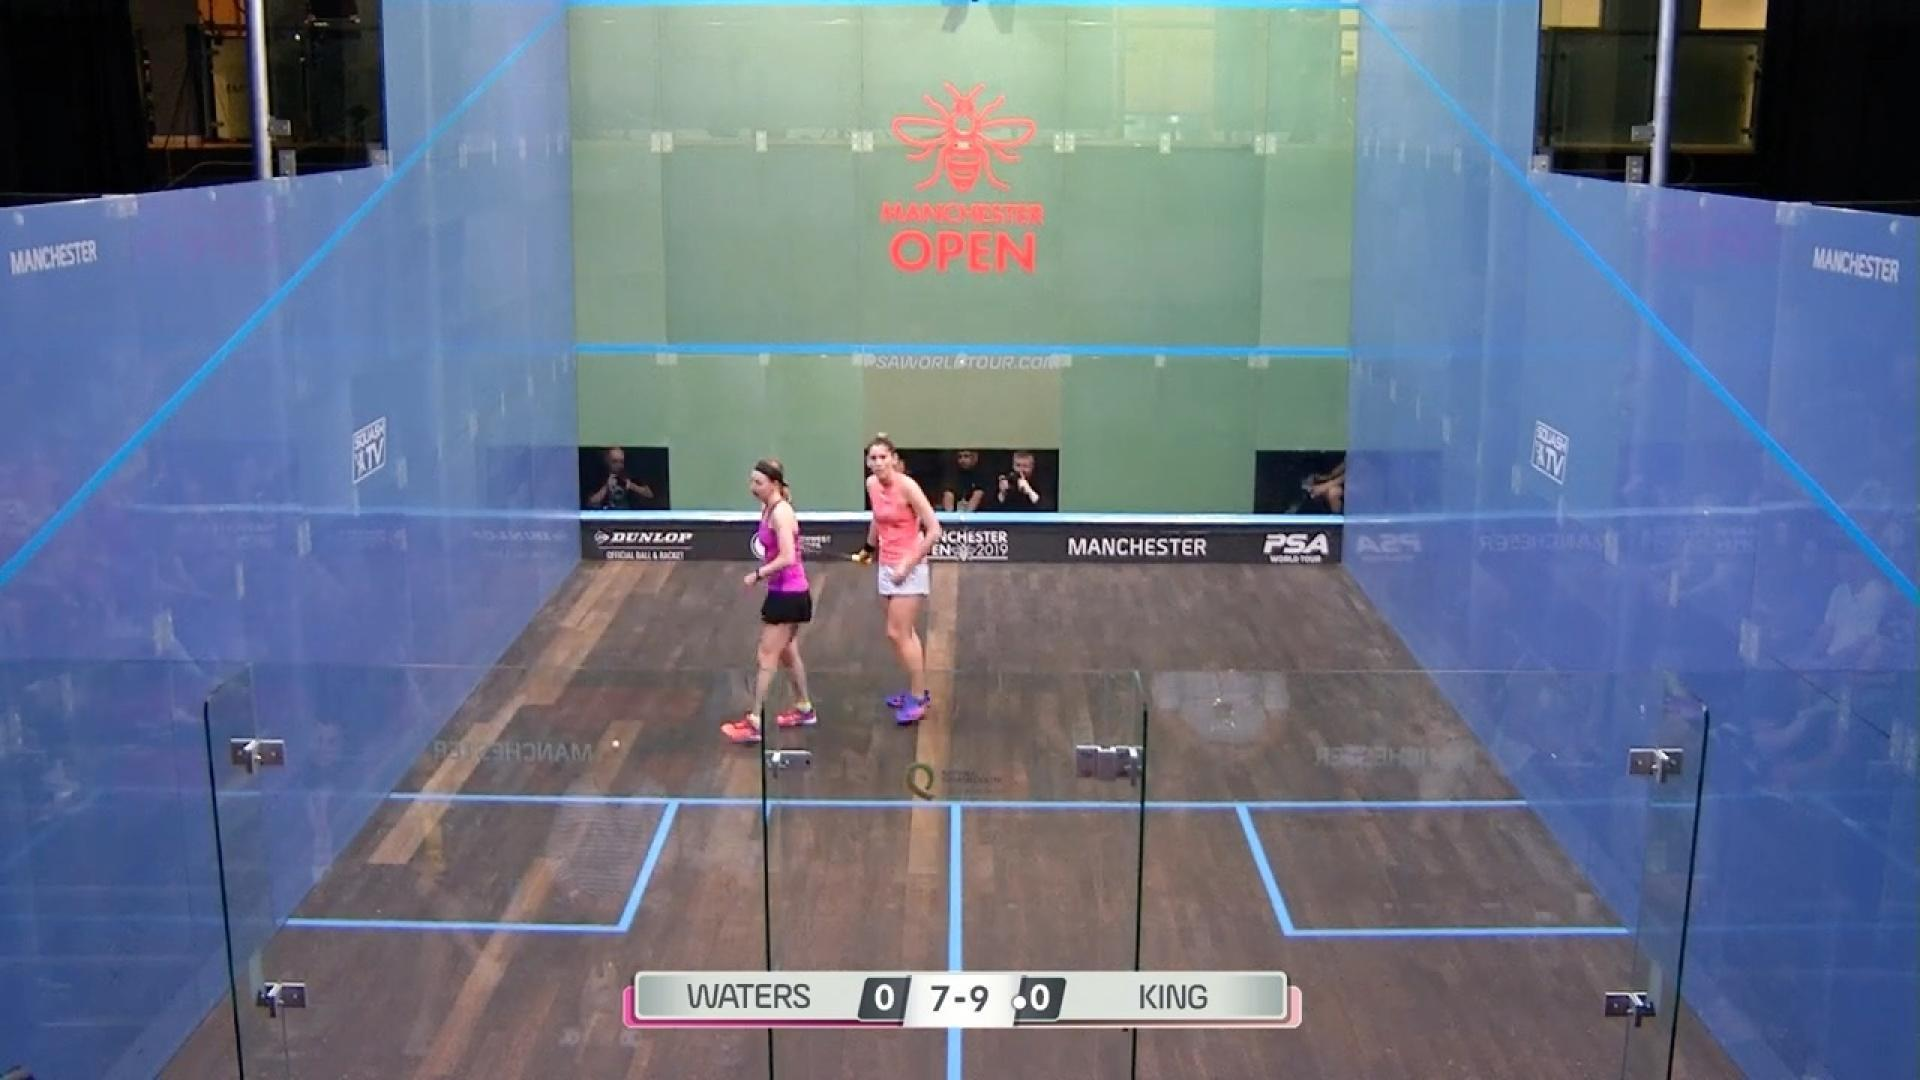Squash-Ball: (595, 720, 640, 770)
